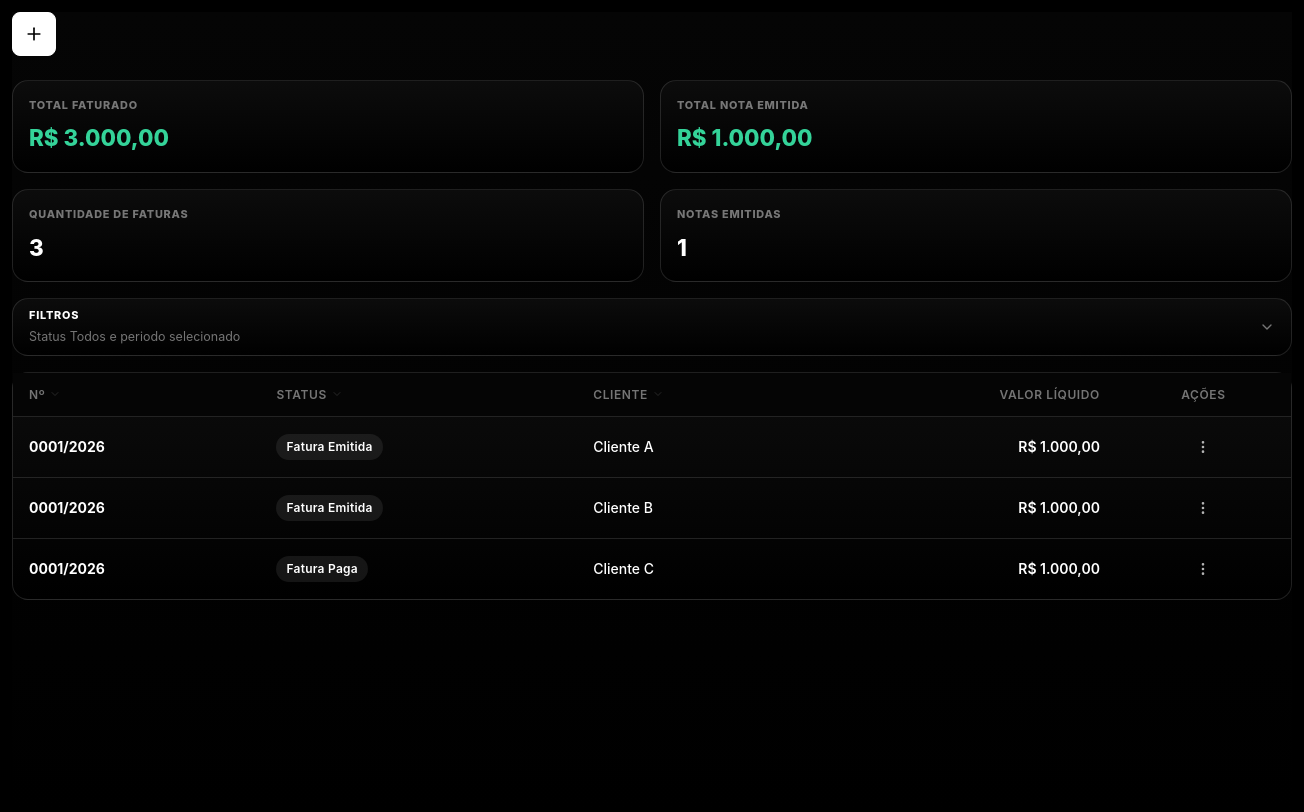
Scenario: Invoices Page › filters rows by note status only after clicking "Aplicar"
Expected: the text "Cliente A" is shown, [577, 416, 813, 478]
Expected: the text "Cliente B" is shown, [577, 478, 813, 538]
Click the text "Filtros" at (54, 316), box [29, 308, 79, 322]
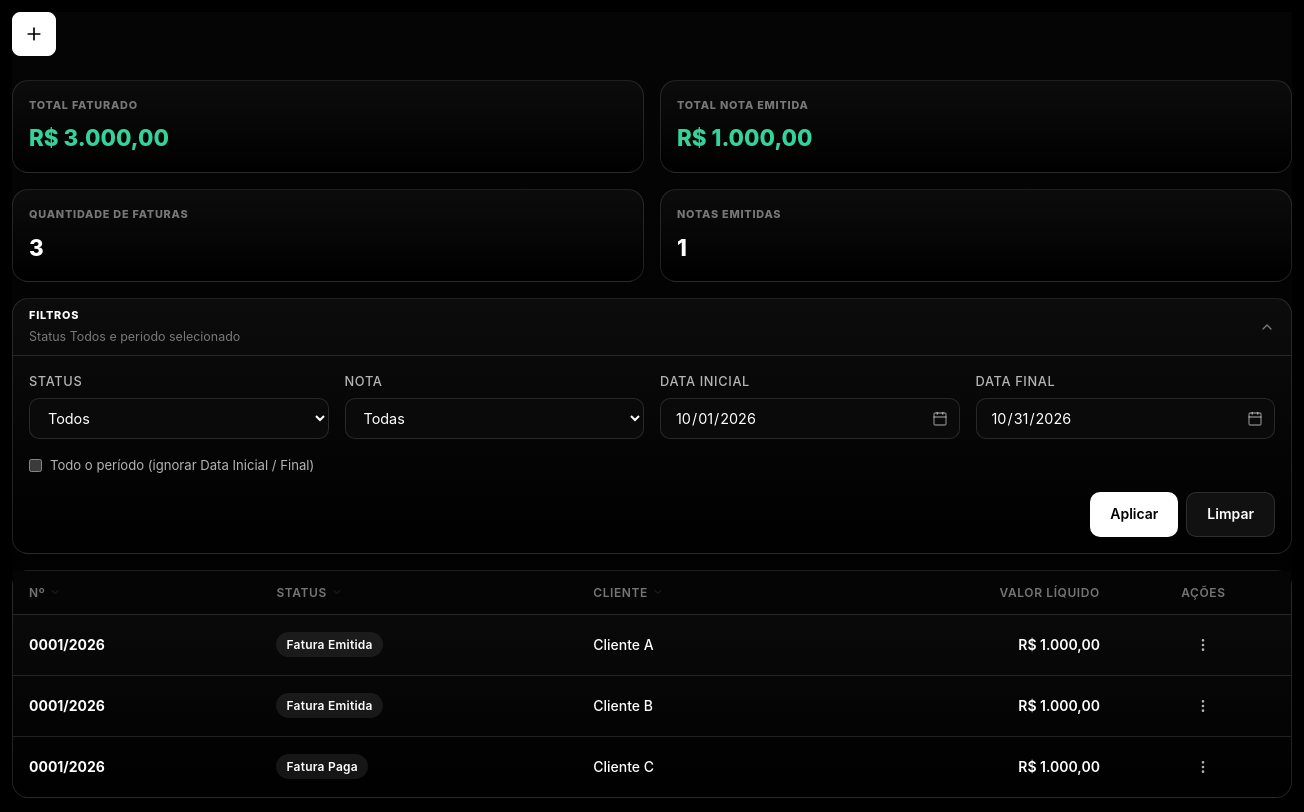
Select "Nota Emitida" in the 2nd dropdown showing "Todas" at (494, 419), box [344, 398, 644, 439]
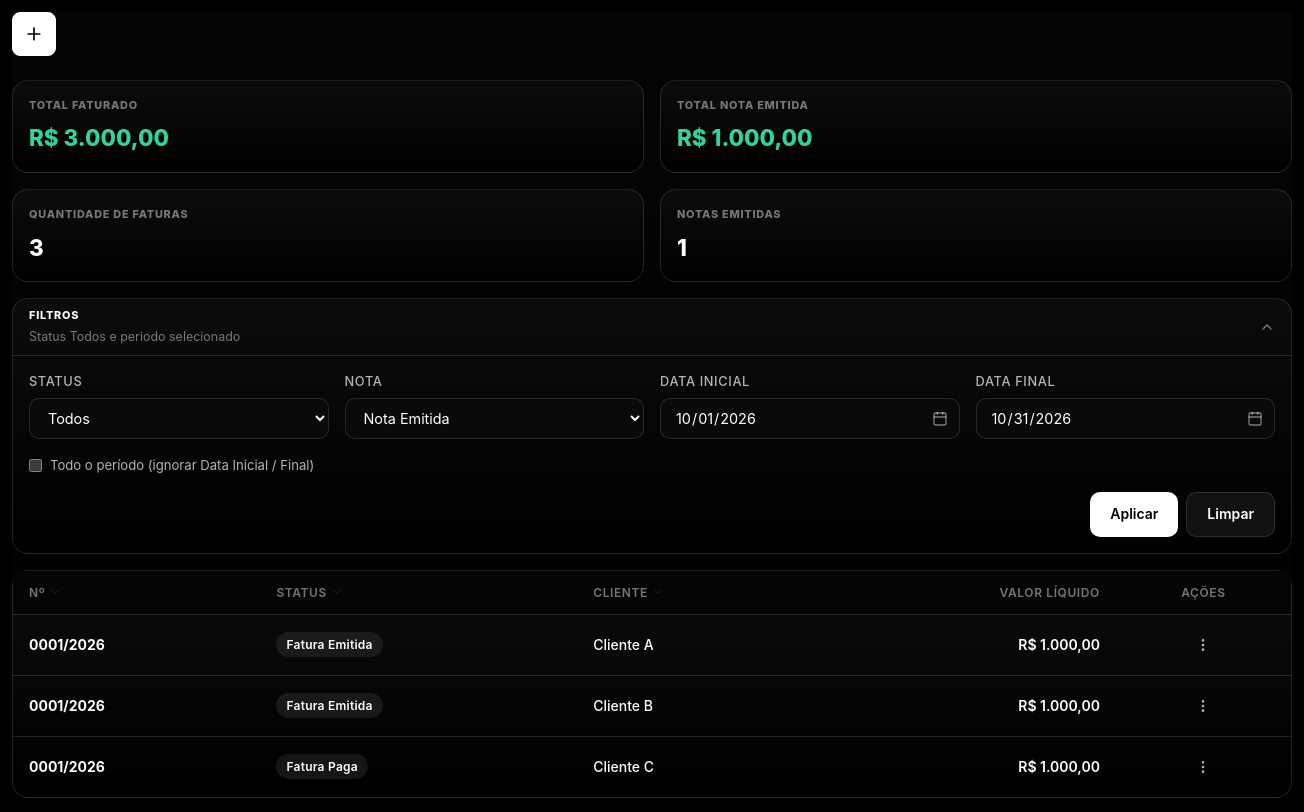
Expected: the text "Cliente B" is shown, [577, 675, 813, 736]
Click the button "Aplicar" at (1134, 514), box [1090, 492, 1178, 537]
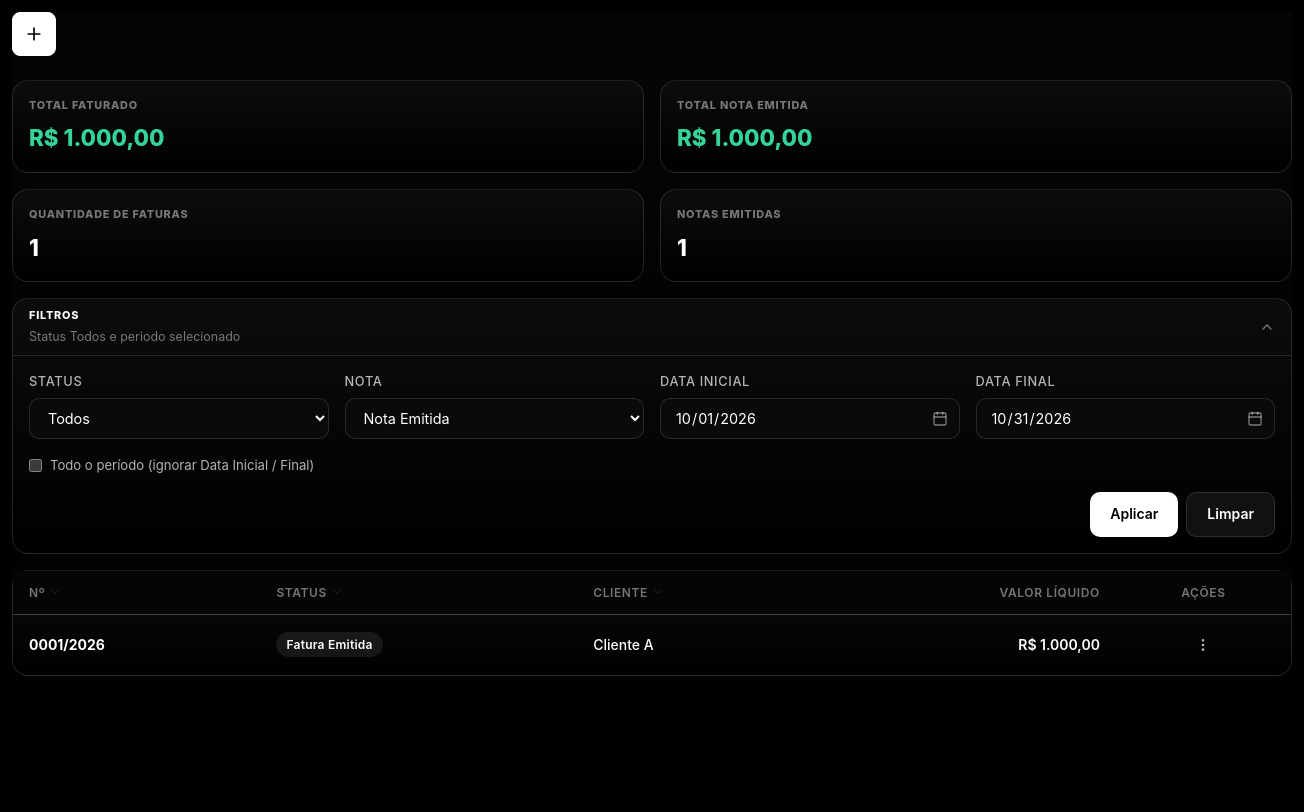
Expected: the text "Cliente A" is shown, [577, 614, 813, 675]
Expected: the text "Cliente B" is gone
Expected: the text "Cliente C" is gone
